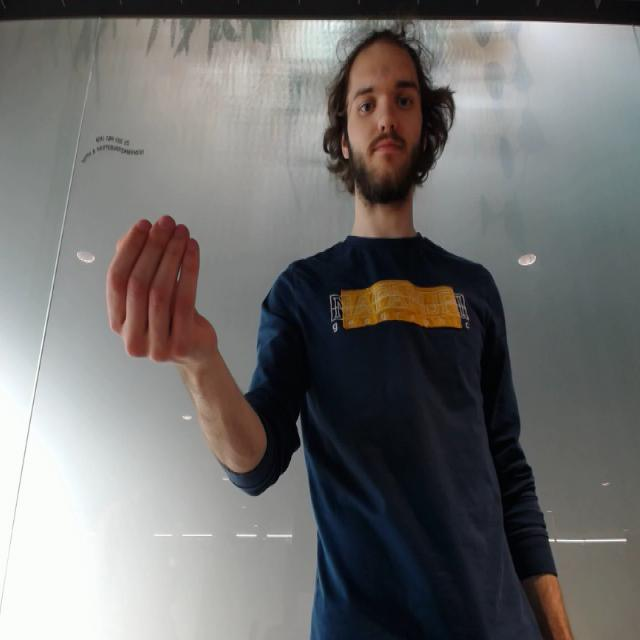forward: (102, 212, 228, 372)
